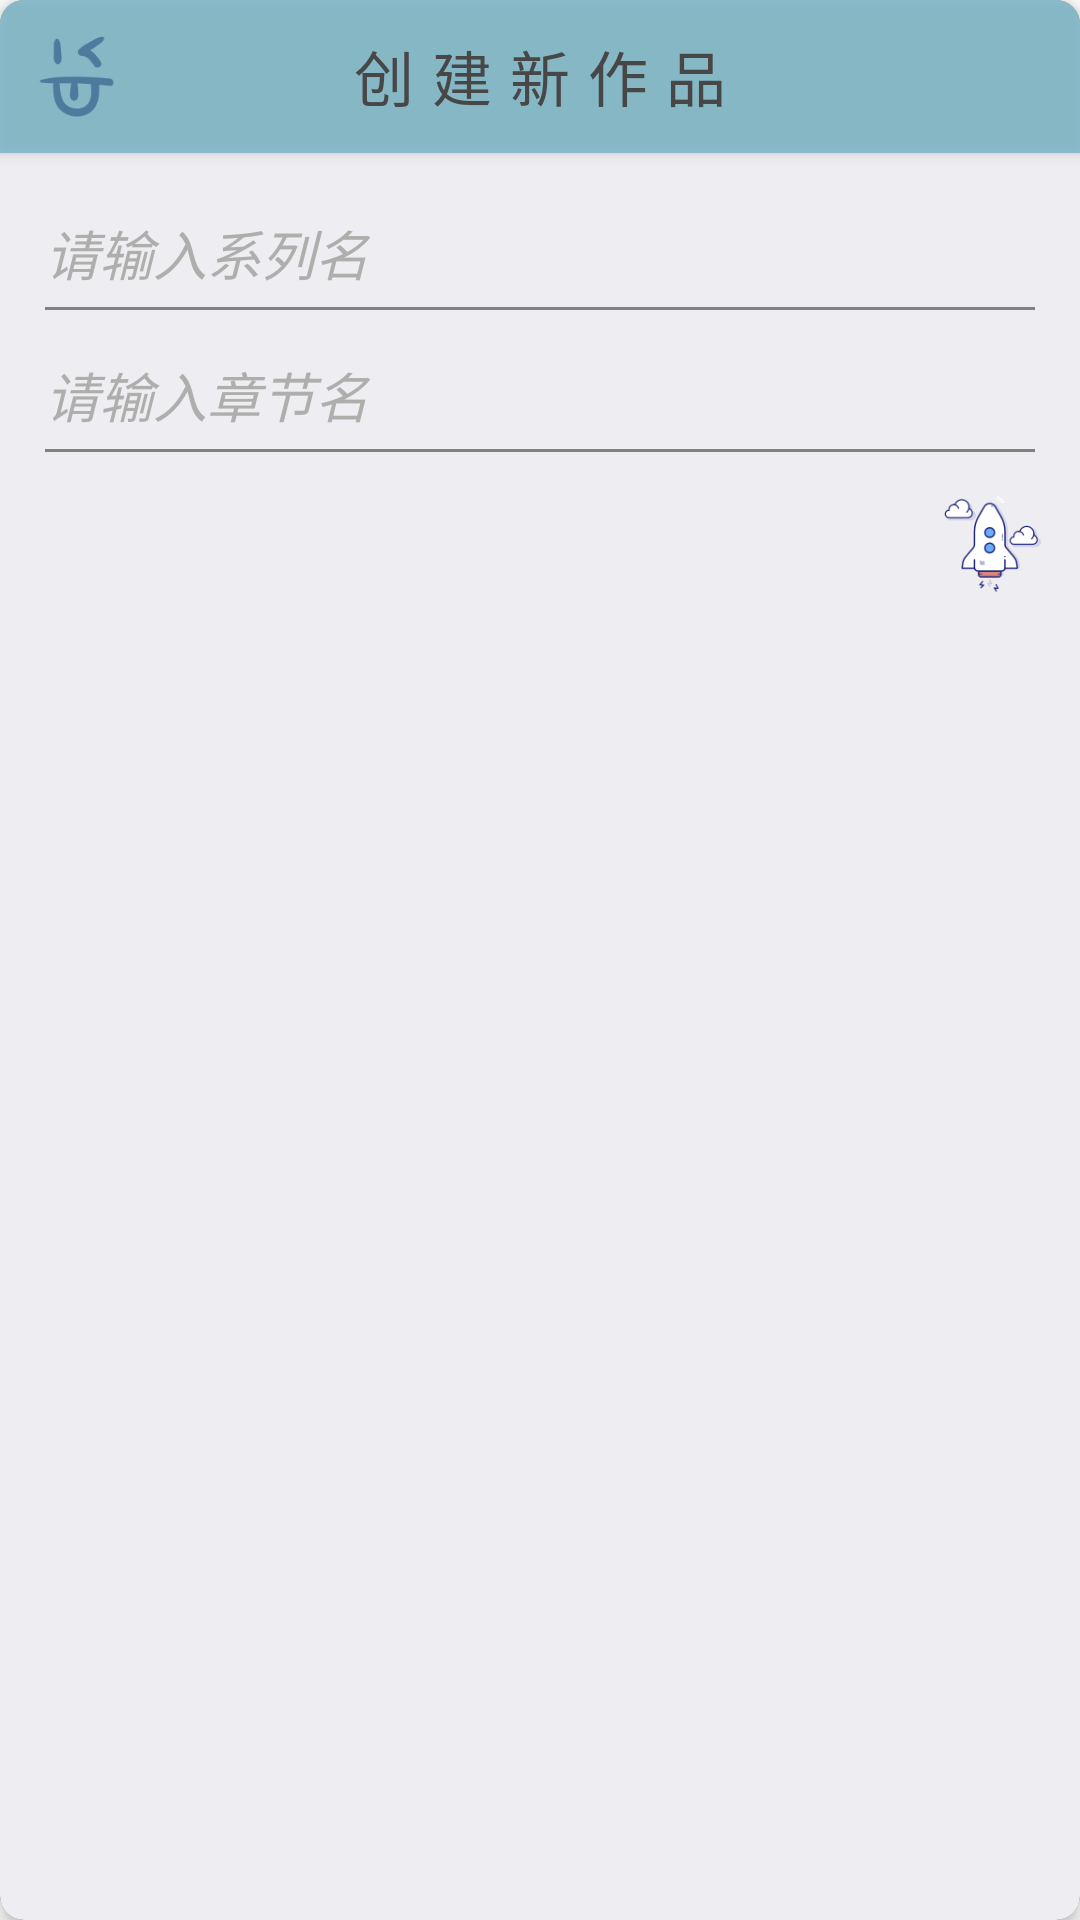

Where to tap for icons on this 1080w x 1920h app screen, as point (x, y):
happy smile tongue: point (76, 77)
rocket startup: point (992, 545)
